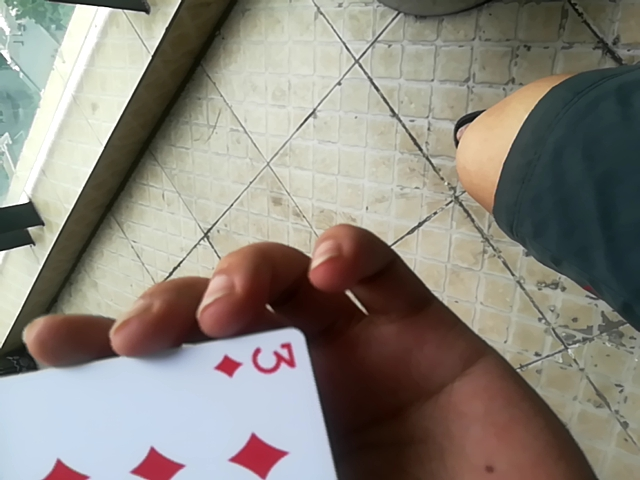fk 3: (5, 320, 348, 479)
